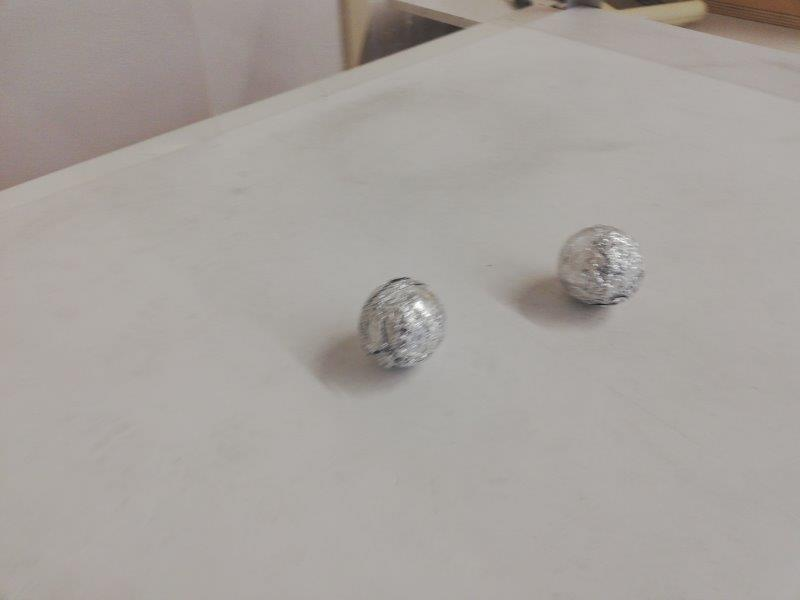bianca: (359, 276, 445, 368), (558, 224, 645, 307)
